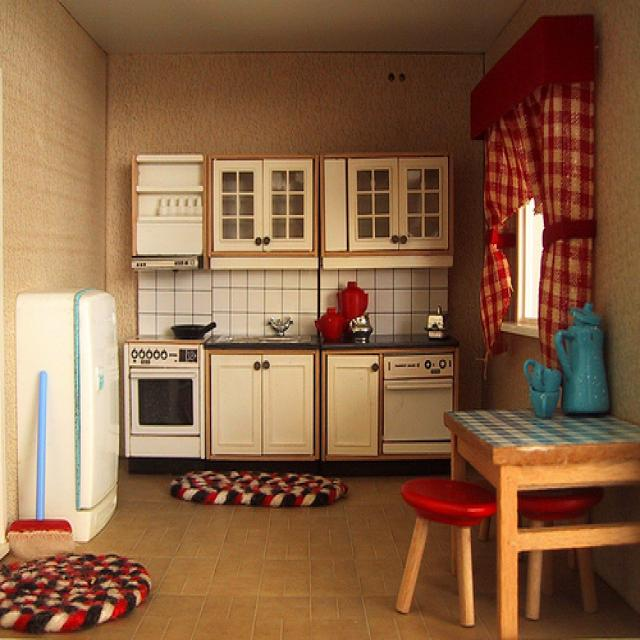chair: (390, 475, 497, 625), (520, 488, 605, 622)
dining table: (444, 406, 640, 631)
